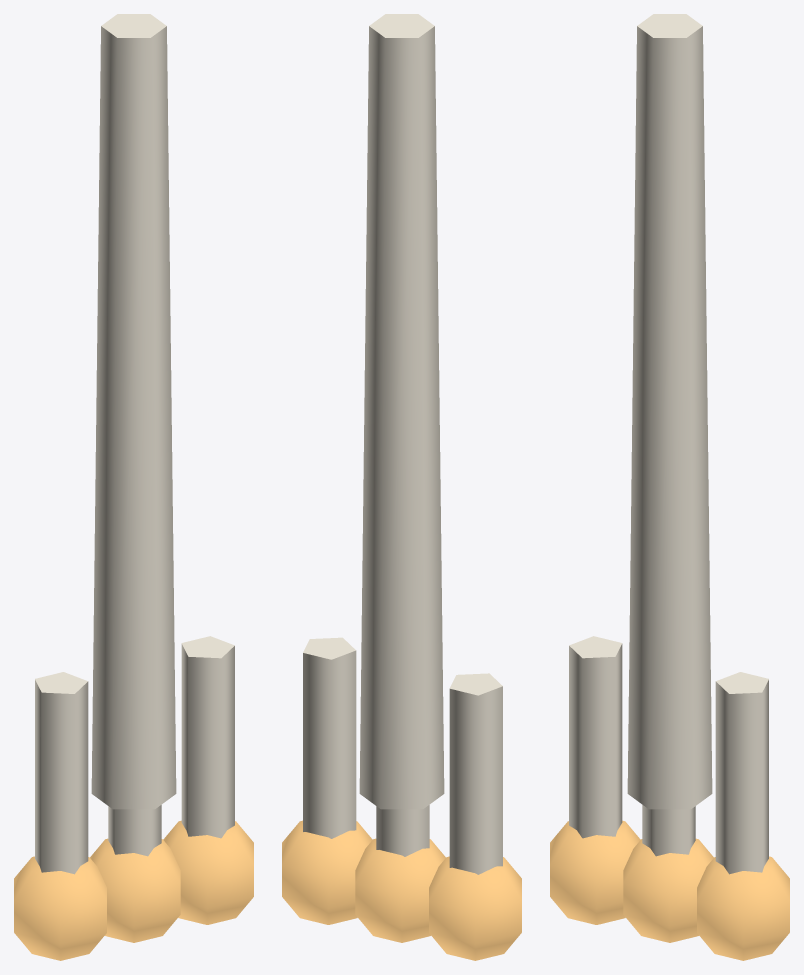
The model's file is candle.glb.
3 views of the same model, side by side, from view 1: azimuth 30°, elevation 25°; view 2: azimuth 150°, elevation 25°; view 3: azimuth 330°, elevation 25° (orthographic).
Bounding box in the file's own units: 0.2941 × 1.07 × 0.0988.
